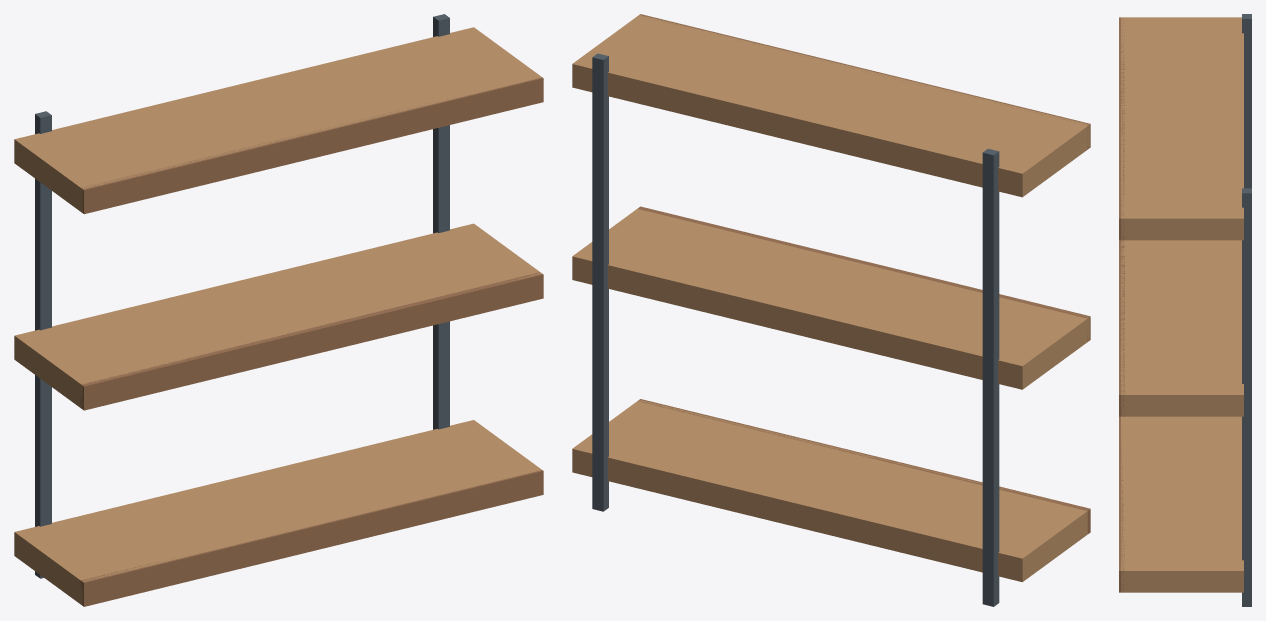
The model's file is Shelf_Wall_120.fbx.
3 renders of one model, left to right at view 1: azimuth 30°, elevation 25°; view 2: azimuth 150°, elevation 25°; view 3: azimuth 270°, elevation 25°, orthographic. The views are drawn at different scales.
Parts seen in each view (by area): view 1: Shelf_Wall_120; view 2: Shelf_Wall_120; view 3: Shelf_Wall_120.
Boxes of the visible parts, x1=… form: Shelf_Wall_120: x1=14, y1=14, x2=543, y2=606; Shelf_Wall_120: x1=572, y1=14, x2=1090, y2=606; Shelf_Wall_120: x1=1119, y1=14, x2=1251, y2=606.
Size of the model in its own units: 1.2 by 1.15 by 0.335.
